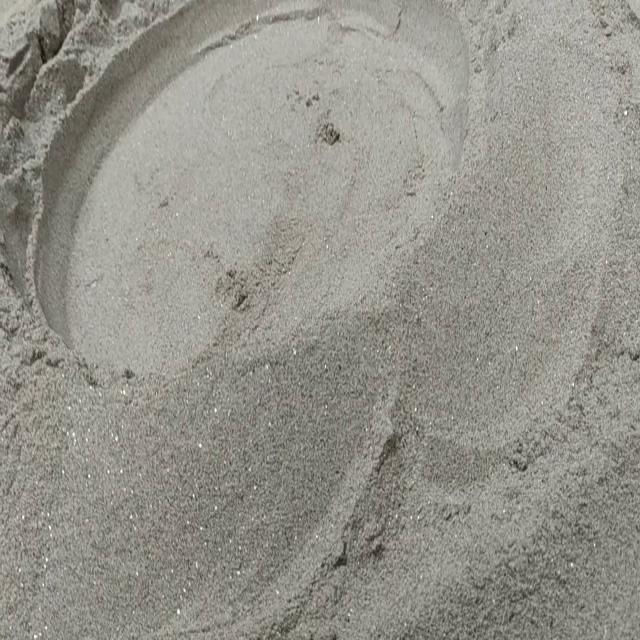C40: (28, 0, 468, 374)
